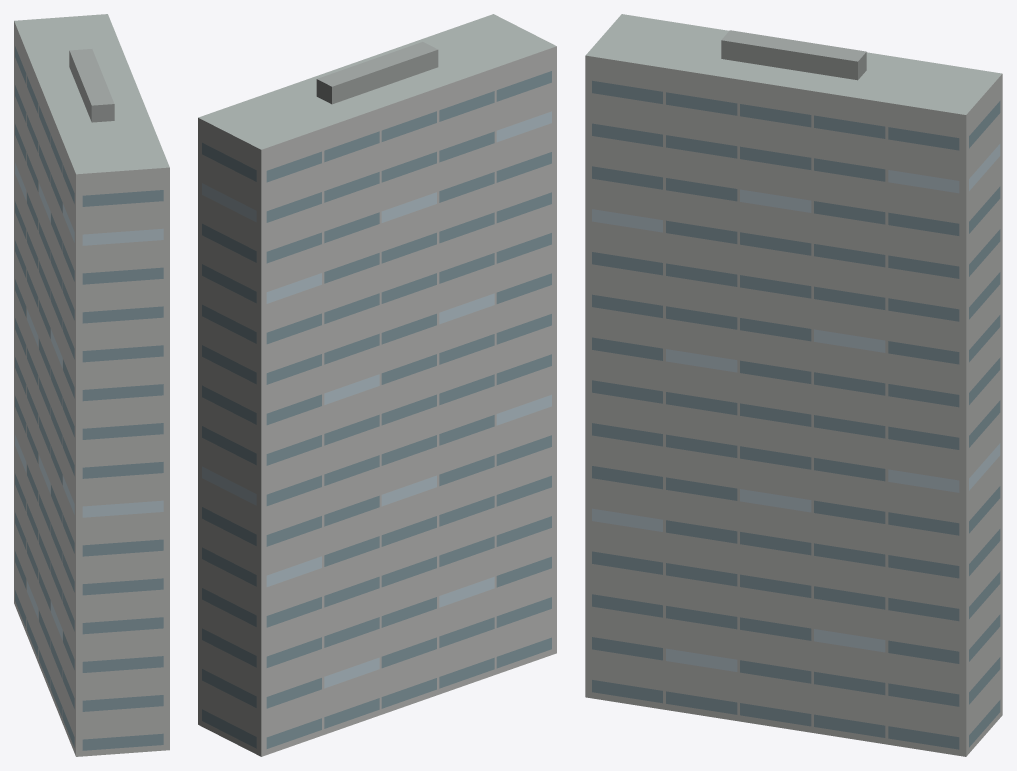
The model's file is fallback-jamsil-els-148.glb.
3 views of the same model, side by side, from view 1: azimuth 30°, elevation 25°; view 2: azimuth 150°, elevation 25°; view 3: azimuth 270°, elevation 25° (orthographic). The views are drawn at different scales.
Parts seen in each view (by area): view 1: fallback-jamsil-els-148; view 2: fallback-jamsil-els-148; view 3: fallback-jamsil-els-148.
Part boxes in pixels (x1,y1,x2,y2): fallback-jamsil-els-148: (14,14,169,756); fallback-jamsil-els-148: (198,14,556,756); fallback-jamsil-els-148: (585,14,1002,756).
Bounding box in the file's own units: 27.91 × 85 × 48.65.
